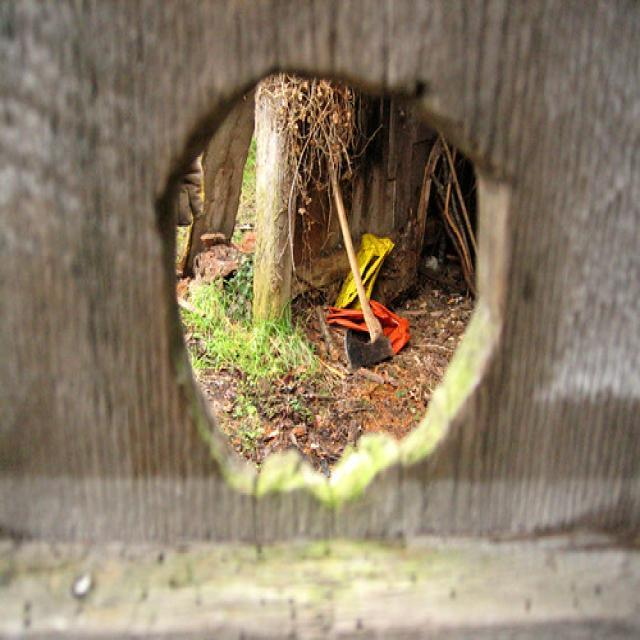Axe: (329, 150, 394, 369)
